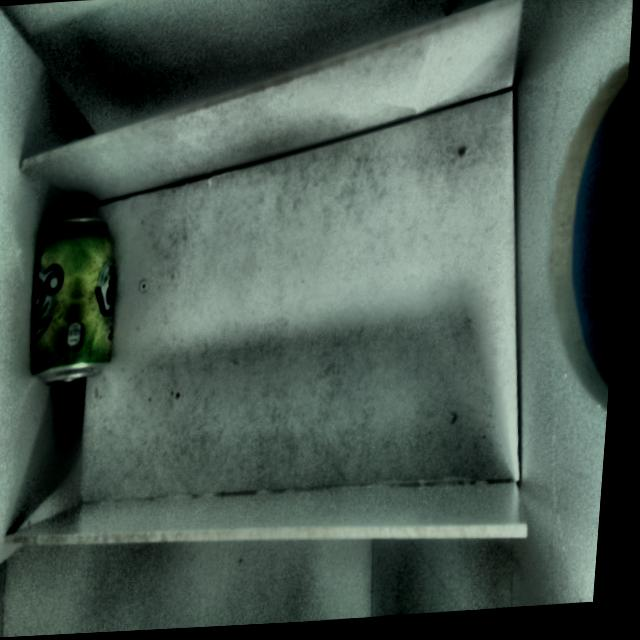Cans: (20, 198, 135, 400)
